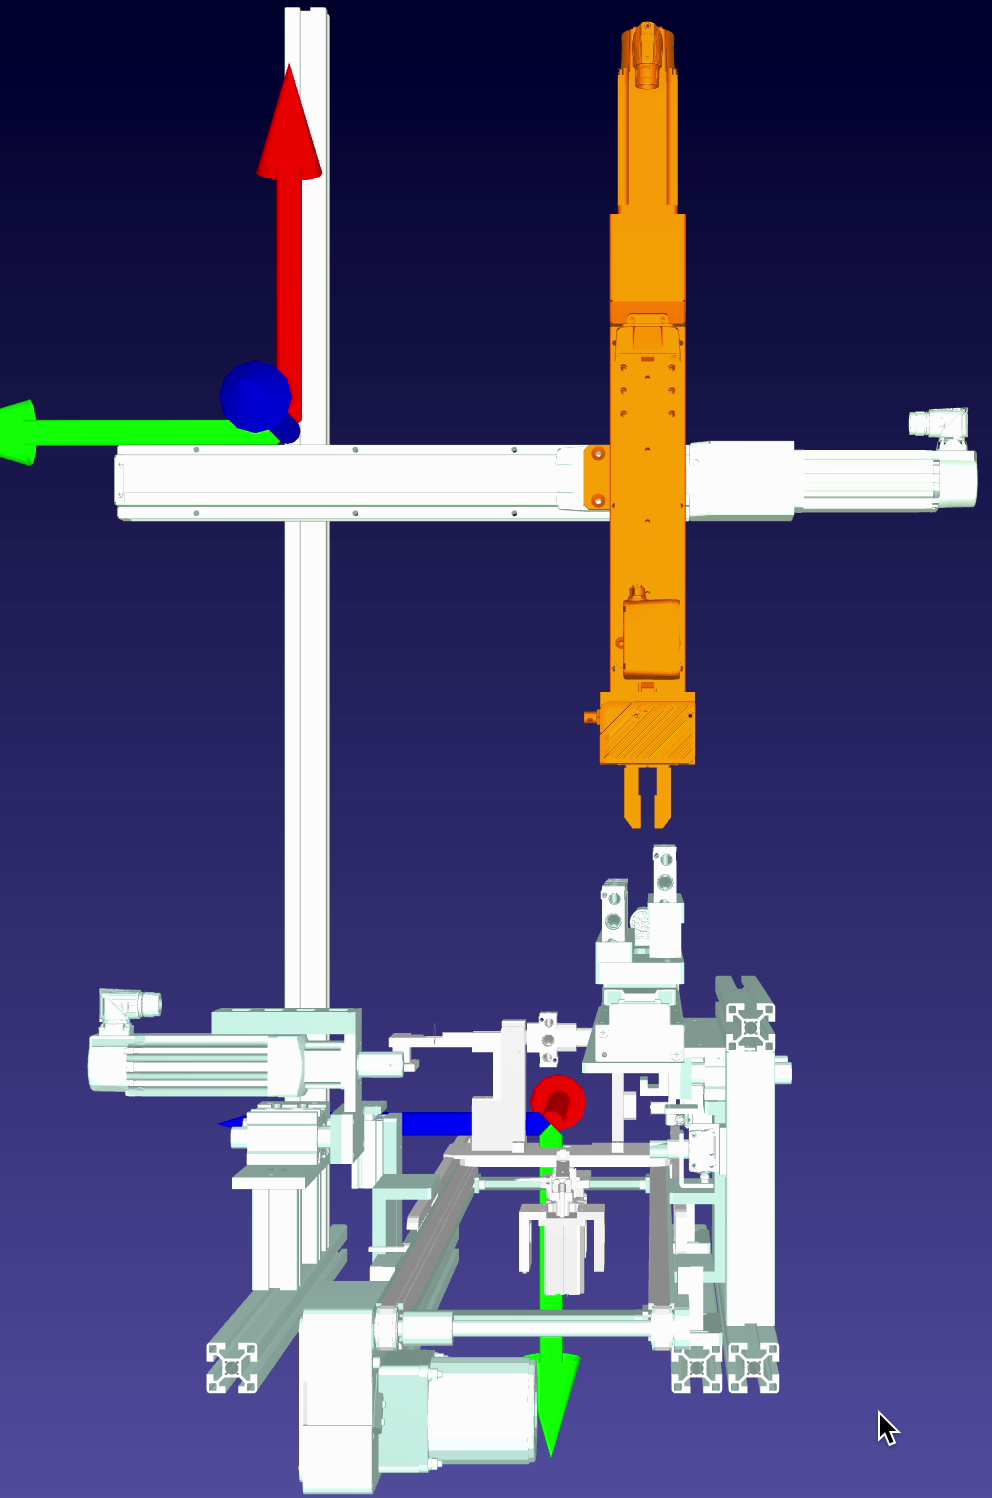Gripper: (582, 675, 702, 825)
